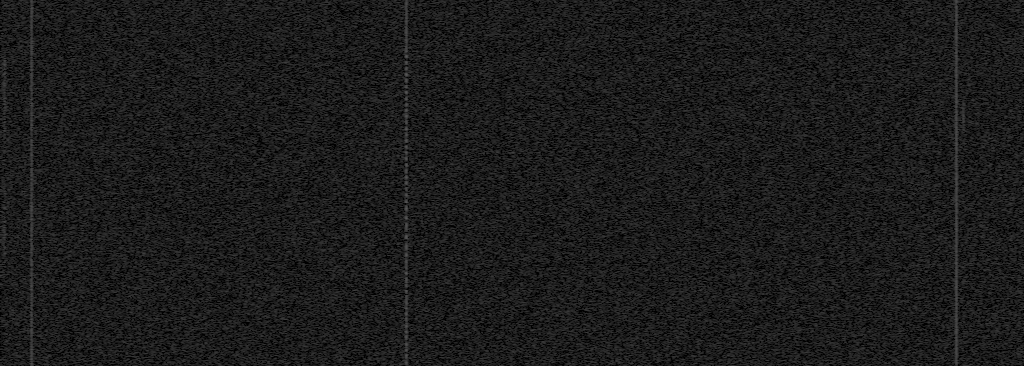wv_am: (29, 0, 34, 366), (404, 0, 409, 89), (404, 289, 409, 366), (404, 181, 409, 240), (404, 252, 409, 288), (404, 144, 409, 180), (404, 126, 409, 143), (404, 108, 409, 125), (404, 90, 409, 107), (404, 241, 409, 251)
wv_cw: (954, 0, 959, 366)
wv_lsb: (0, 178, 7, 273), (0, 55, 7, 120), (1, 121, 7, 172), (2, 274, 6, 289), (2, 311, 6, 319), (2, 8, 7, 13), (3, 2, 7, 7), (2, 298, 6, 302), (2, 293, 5, 297), (3, 18, 6, 21), (3, 14, 6, 17)
wv_usb: (961, 100, 966, 133), (961, 310, 967, 334), (962, 50, 967, 67), (962, 155, 966, 171), (962, 68, 967, 75), (962, 2, 967, 8), (962, 362, 967, 366), (962, 266, 965, 272), (962, 218, 966, 222), (962, 10, 966, 14), (962, 223, 965, 227), (962, 177, 965, 181)
